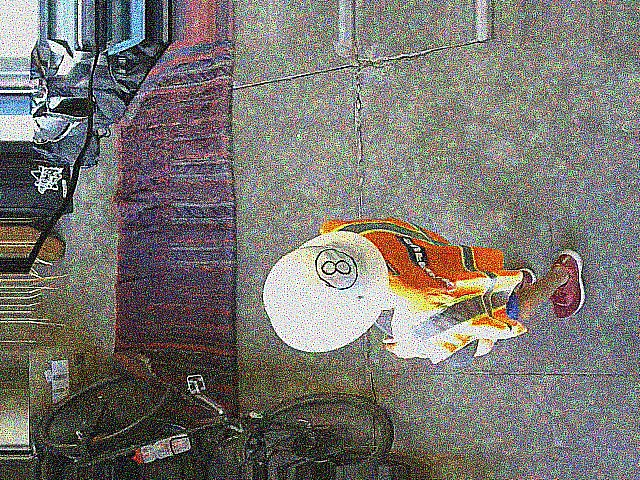eight: (312, 246, 358, 290)
